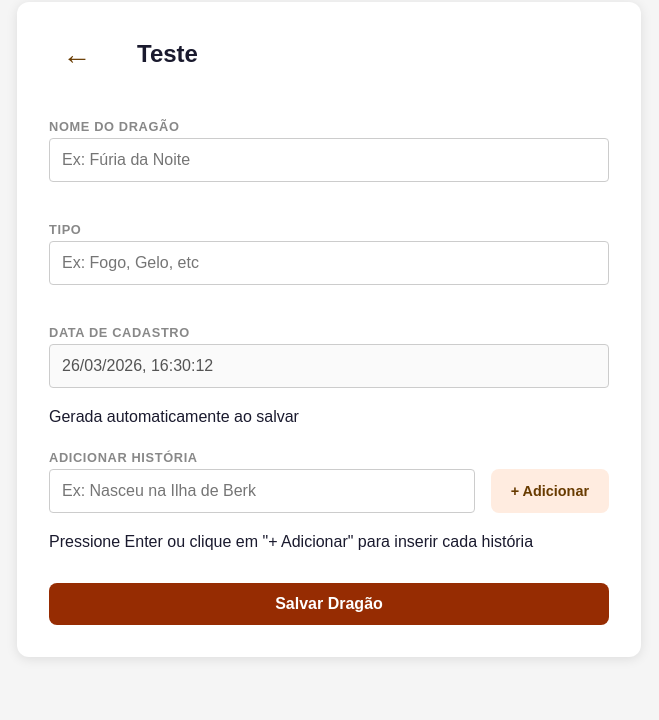
Test case: DragonForm › deve adicionar uma história
The image size is (659, 720).
Type "Nasceu na Ilha de Berk" into the field with placeholder "Ex: Nasceu na Ilha de Berk" at (262, 491), box [49,469,475,513]
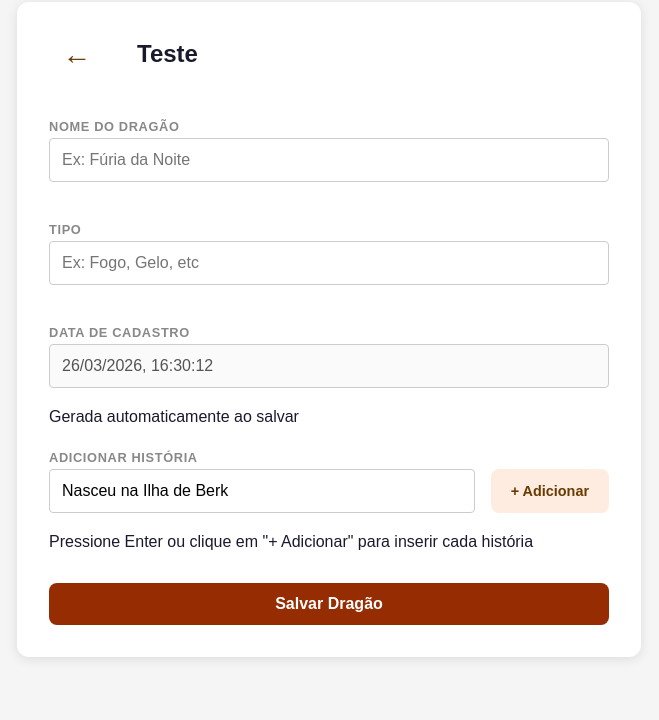
Click the button "+ Adicionar" at (550, 491), box [491,469,609,513]
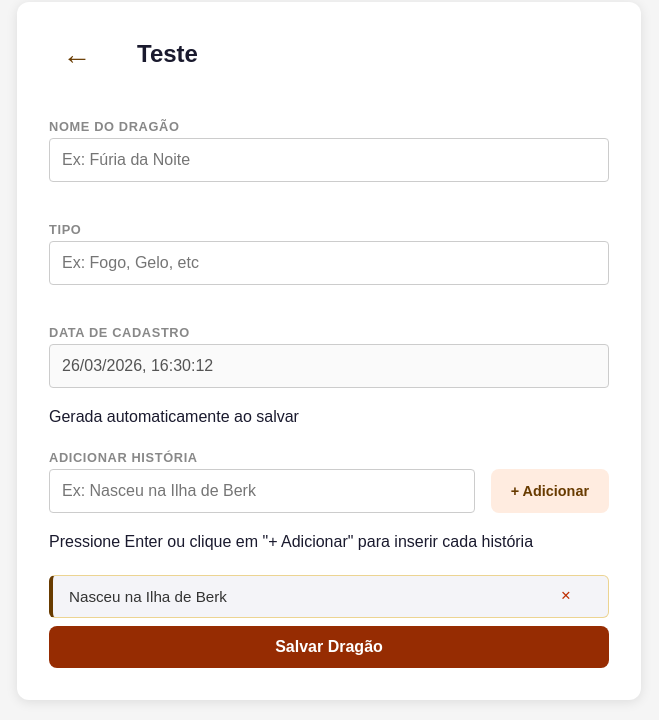
Check: the text "Nasceu na Ilha de Berk" is shown, box [69,588,227,605]
